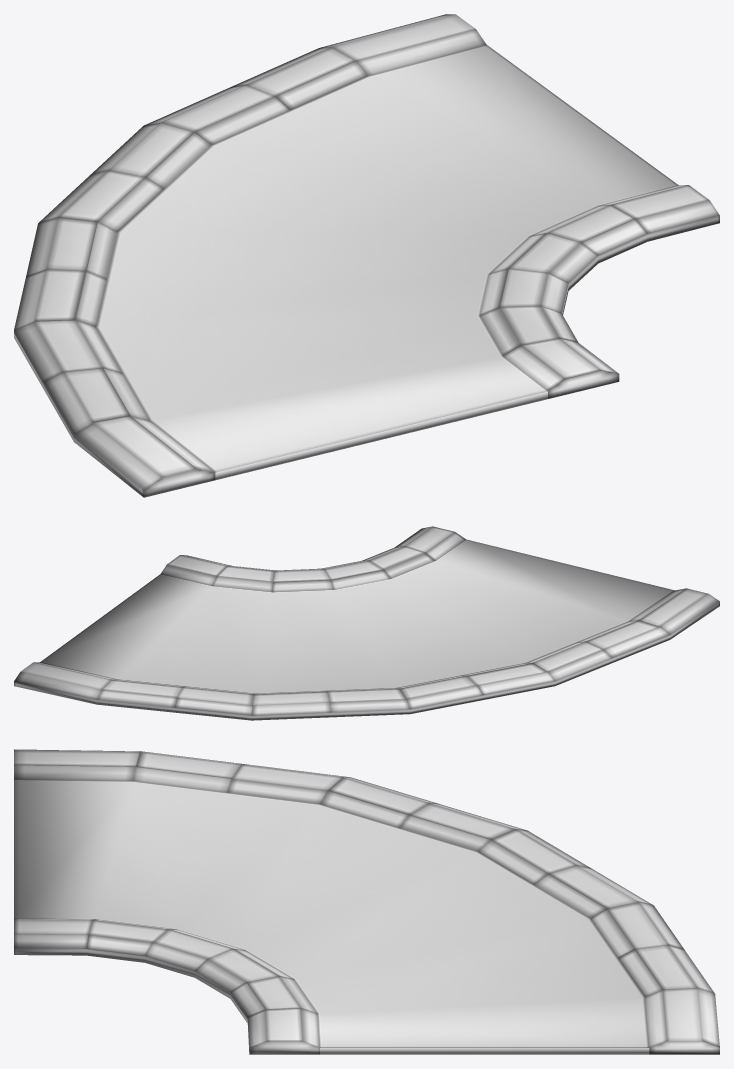
The model's file is Track-06.fbx.
3 views of the same model, one above another, from view 1: azimuth 30°, elevation 25°; view 2: azimuth 150°, elevation 25°; view 3: azimuth 270°, elevation 25° (orthographic). The views are drawn at different scales.
Parts seen in each view (by area): view 1: Track-06; view 2: Track-06; view 3: Track-06.
Boxes of the visible parts, x1,y1,x2,y2 form: Track-06: (14, 14, 719, 497); Track-06: (14, 526, 719, 720); Track-06: (14, 749, 719, 1054).
Bounding box in the file's own units: 3 × 0.0625 × 3.
